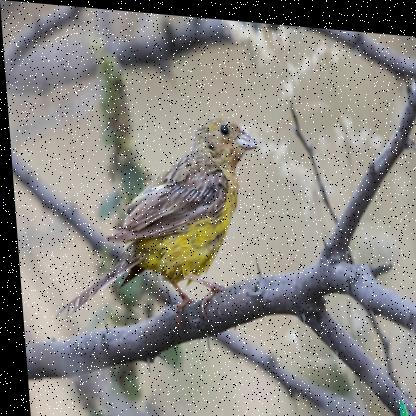Burung: (45, 104, 268, 330)
